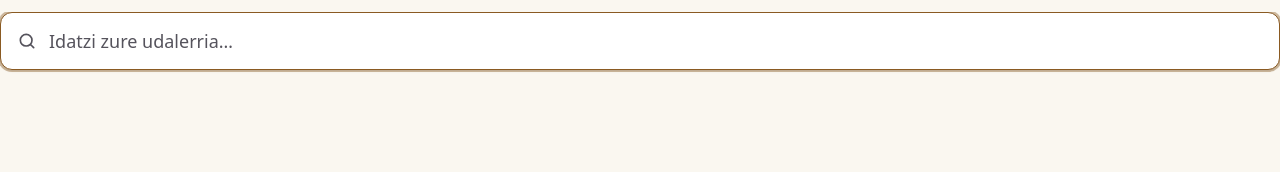
Scenario: MunicipalitySearch › shows the basque name in basque
The width and height of the screenshot is (1280, 172).
Type "san sebastian" into the dropdown at point(656, 41), box [49,13,1263,69]
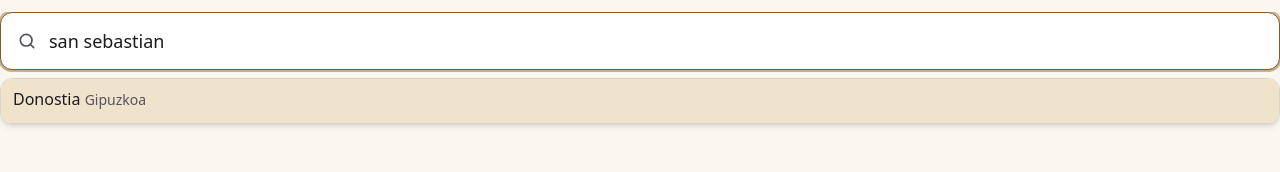
Expected: the option shows "Donostia", [1,79,1279,123]
